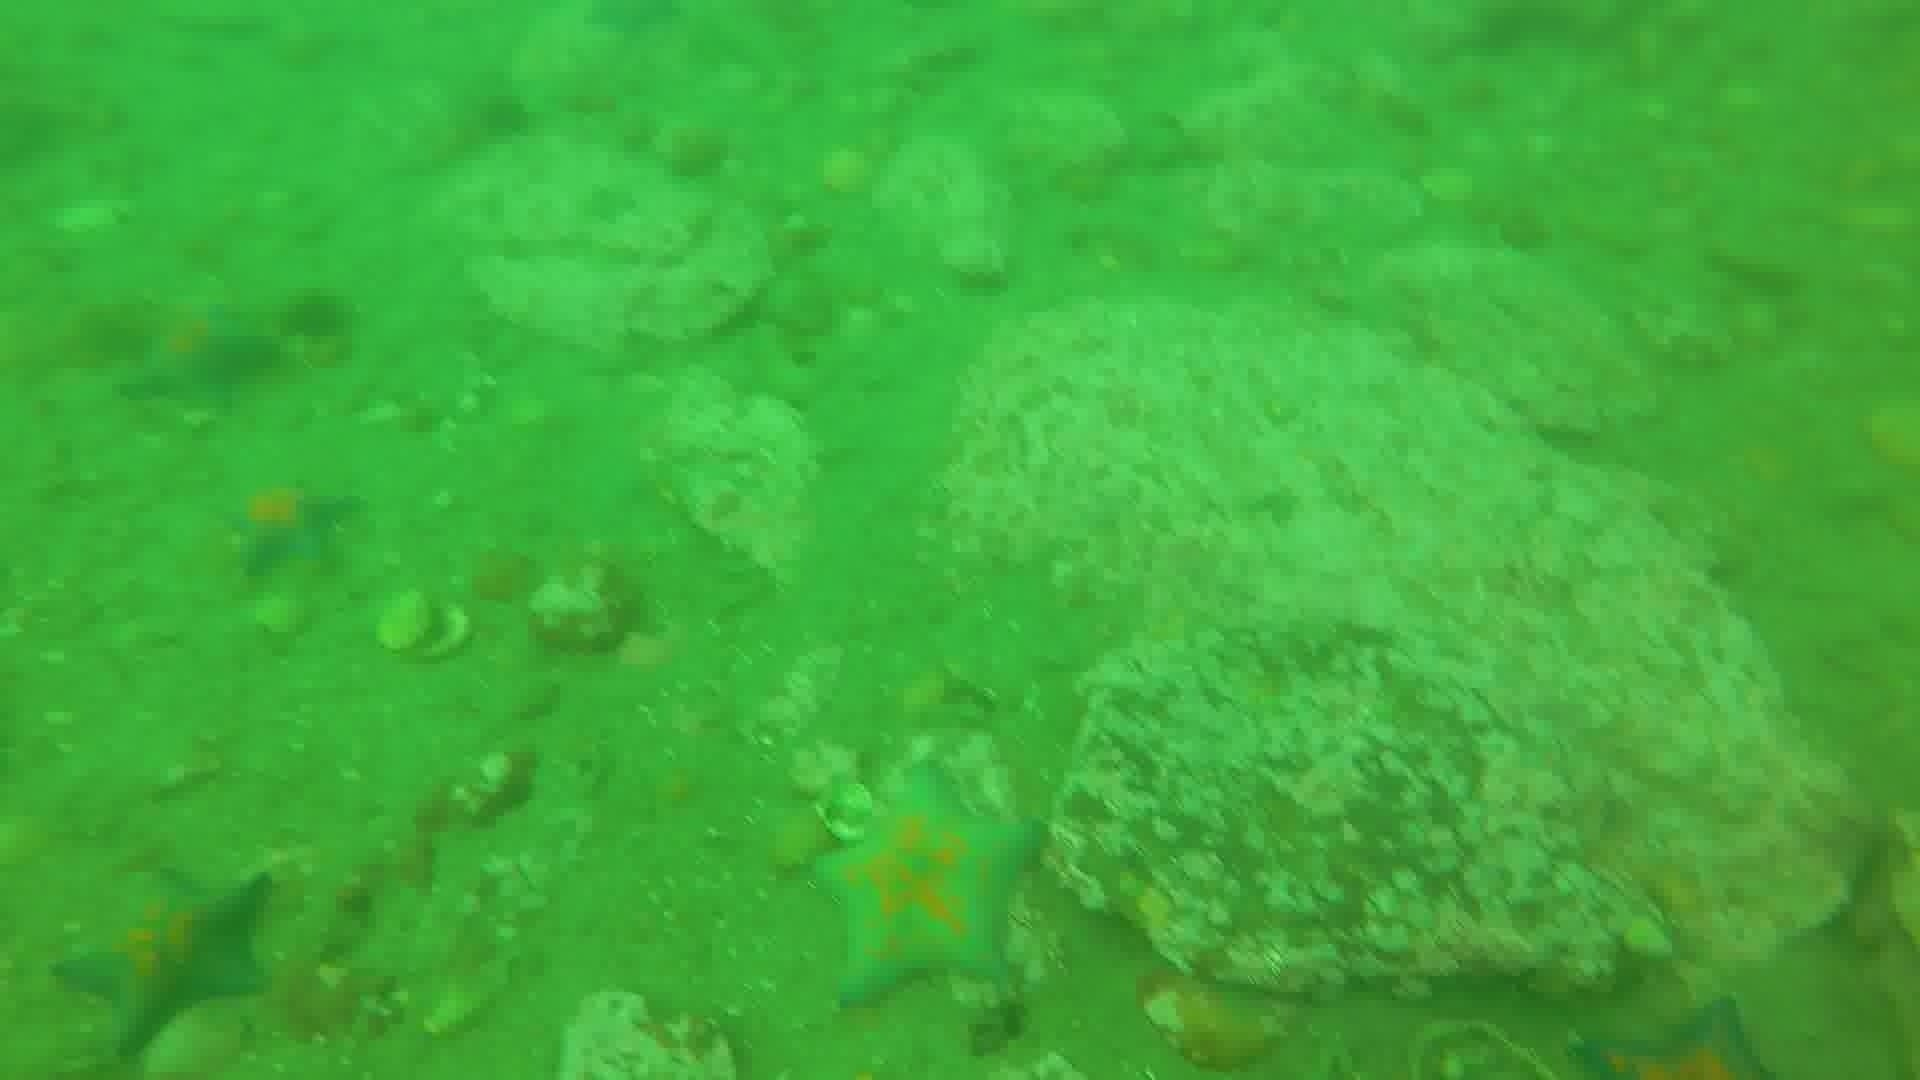echinus: (276, 285, 359, 352), (469, 86, 537, 148)
starfish: (803, 764, 1046, 1011), (49, 860, 280, 1062), (117, 297, 280, 414), (1569, 992, 1783, 1073), (215, 471, 363, 584), (578, 1, 688, 45)
